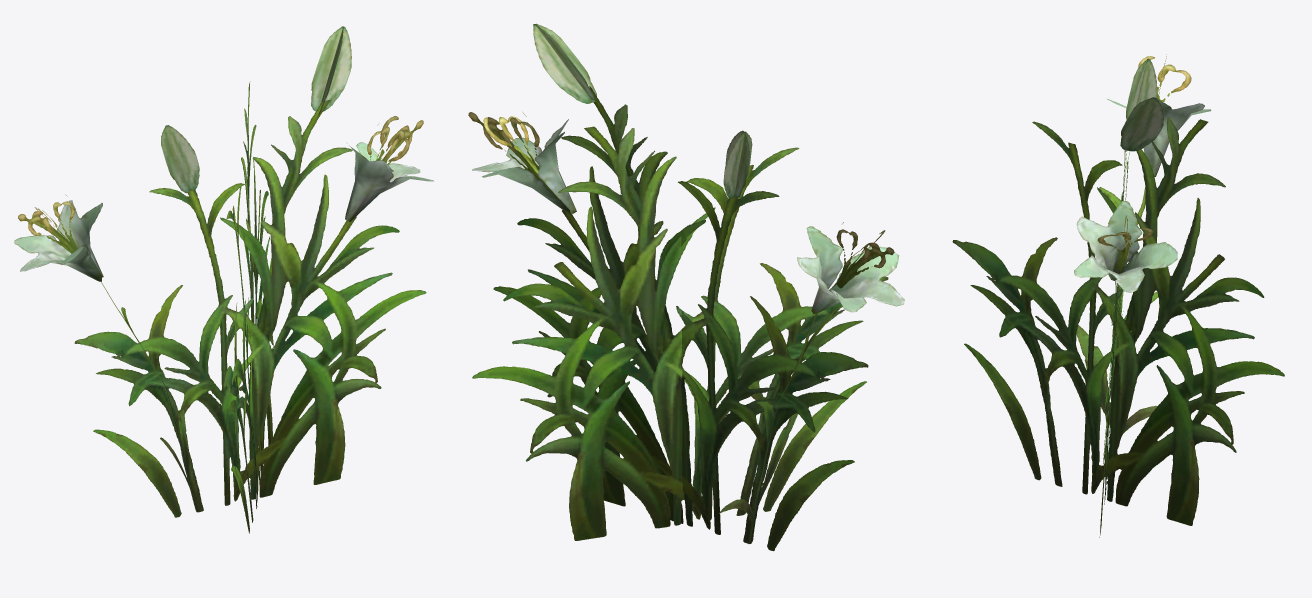
File: Hangzhou_wj_003.FBX
3 views of the same model, side by side, from view 1: azimuth 30°, elevation 25°; view 2: azimuth 150°, elevation 25°; view 3: azimuth 270°, elevation 25° (orthographic). The views are drawn at different scales.
Visible parts, largest first — view 1: DrawCall_0480; view 2: DrawCall_0480; view 3: DrawCall_0480.
Boxes of the visible parts, x1,y1,x2,y2 form: DrawCall_0480: (14,26,433,533); DrawCall_0480: (468,23,904,551); DrawCall_0480: (952,54,1284,537).
Size of the model in its own units: 88.97 by 94.36 by 65.25.
1 material, 1 textured.
